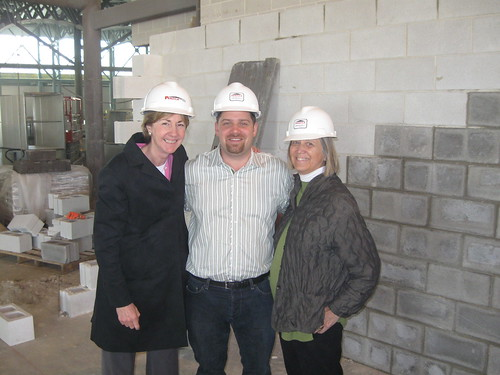person hardhat: (93, 81, 200, 375), (271, 101, 385, 375), (182, 80, 286, 372)
